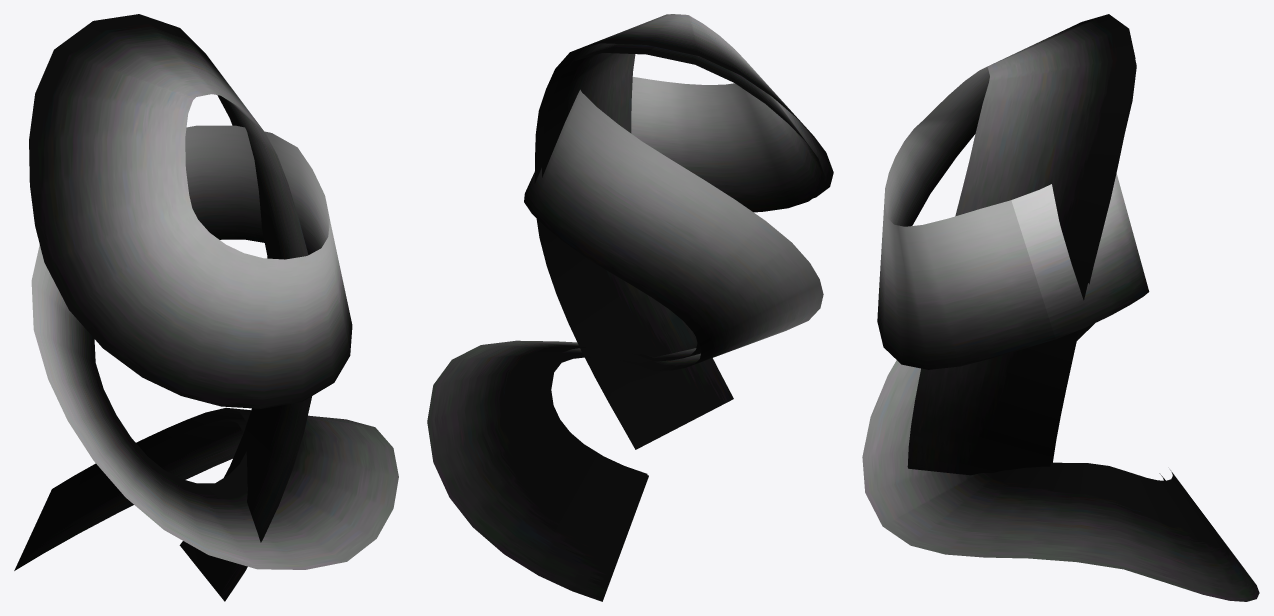
File: vfx_kurp_0882.dae
3 renders of one model, left to right at view 1: azimuth 30°, elevation 25°; view 2: azimuth 150°, elevation 25°; view 3: azimuth 270°, elevation 25°, orthographic. The views are drawn at different scales.
Parts seen in each view (by area): view 1: vfx_kurp_0882; view 2: vfx_kurp_0882; view 3: vfx_kurp_0882.
Boxes of the visible parts, x1,y1,x2,y2 form: vfx_kurp_0882: (14,14,398,601); vfx_kurp_0882: (427,14,833,601); vfx_kurp_0882: (862,14,1259,601).
Bounding box in the file's own units: 5.42 × 5.22 × 8.05.
1 material, 1 textured.
